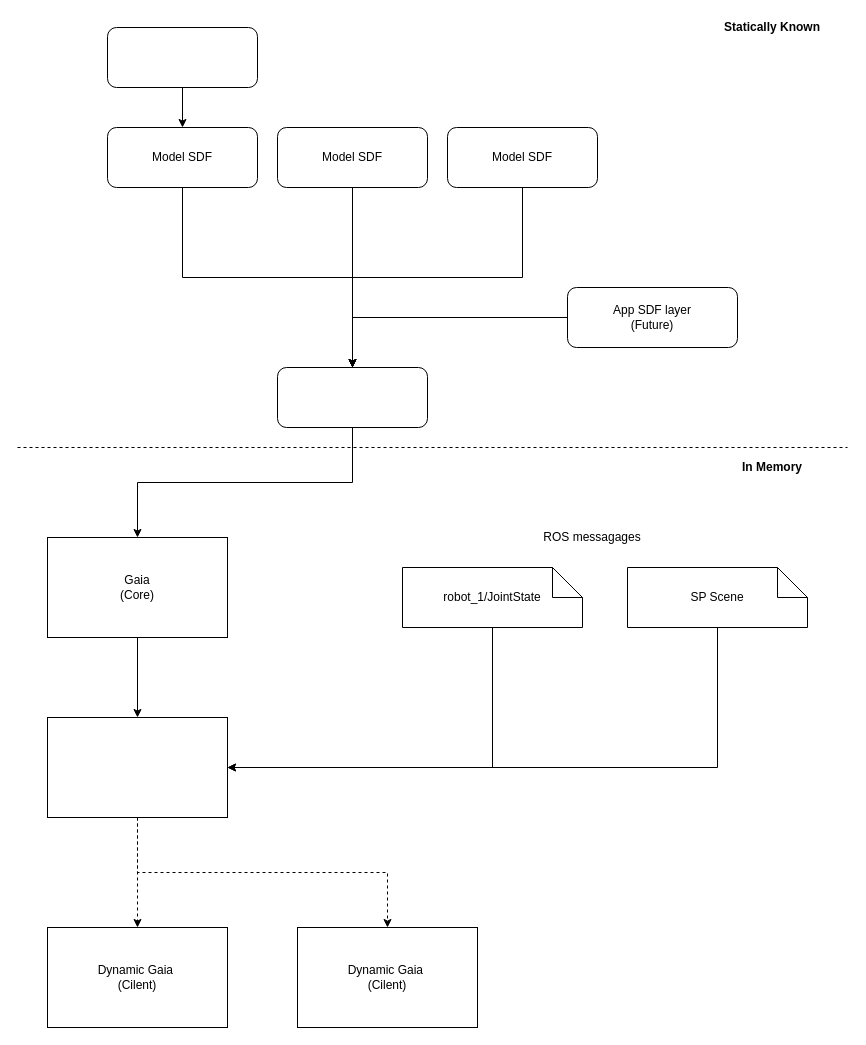
Image size: 866x1045. Some labels were removed from this diagram. Each missing label, with the centre of its shape:
"Dynamic Gaia (Server)" belongs at (x=137, y=767).
"Model SDF.xacro" belongs at (x=182, y=57).
"World SDF" belongs at (x=352, y=397).
